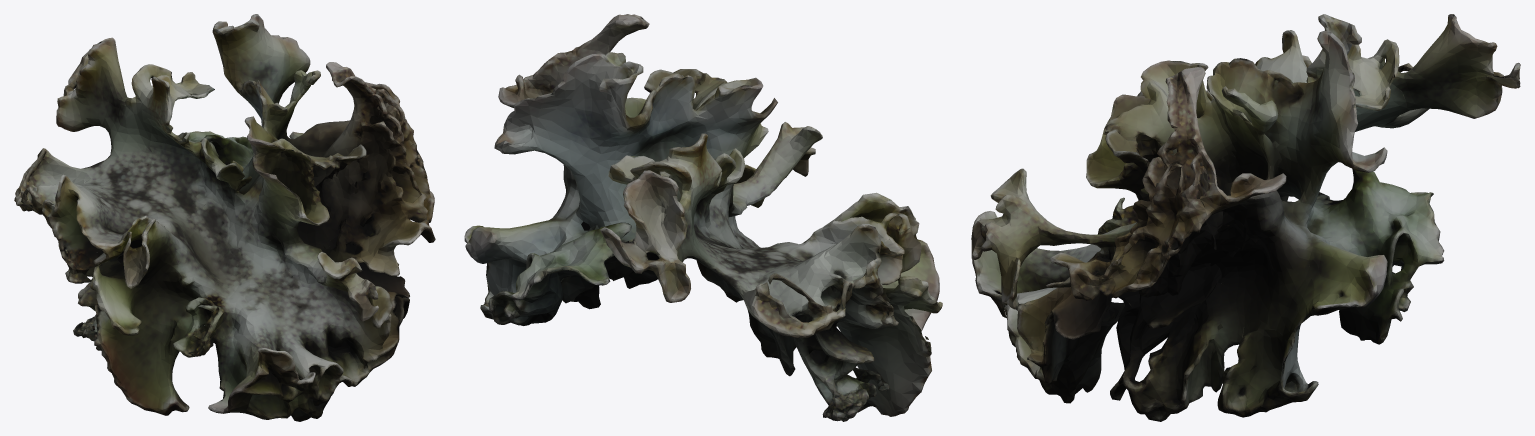
The picture shows the model from 3 angles, left to right: view 1: azimuth 30°, elevation 25°; view 2: azimuth 150°, elevation 25°; view 3: azimuth 270°, elevation 25°; orthographic projection. The views are drawn at different scales.
Parts seen in each view (by area): view 1: world; view 2: world; view 3: world.
Boxes of the visible parts, x1,y1,x2,y2 form: world: [14, 14, 435, 421]; world: [464, 14, 942, 421]; world: [971, 14, 1520, 421].
Bounding box in the file's own units: 0.8753 × 0.8053 × 1.
1 material, 1 textured.
